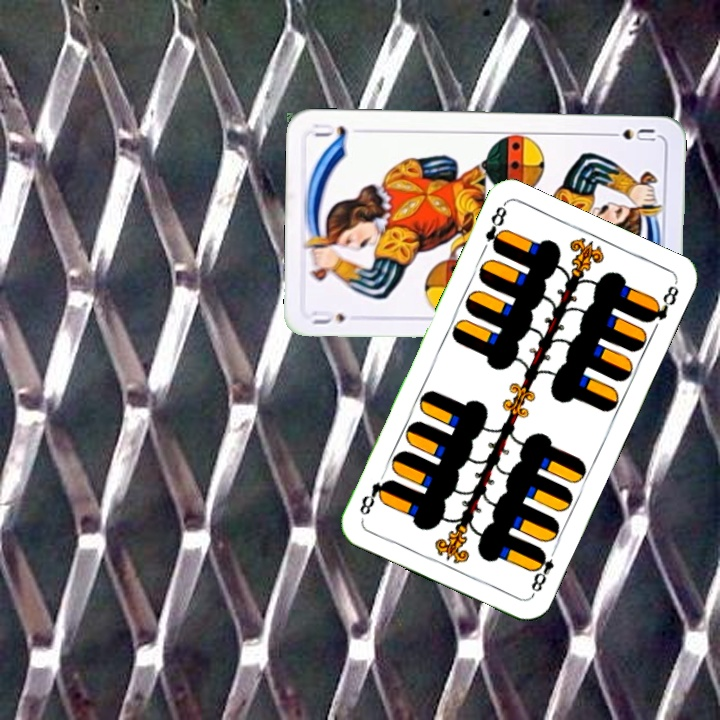E8: (527, 543, 560, 599), (481, 201, 510, 255)
SU: (601, 124, 659, 144), (308, 309, 348, 327)
